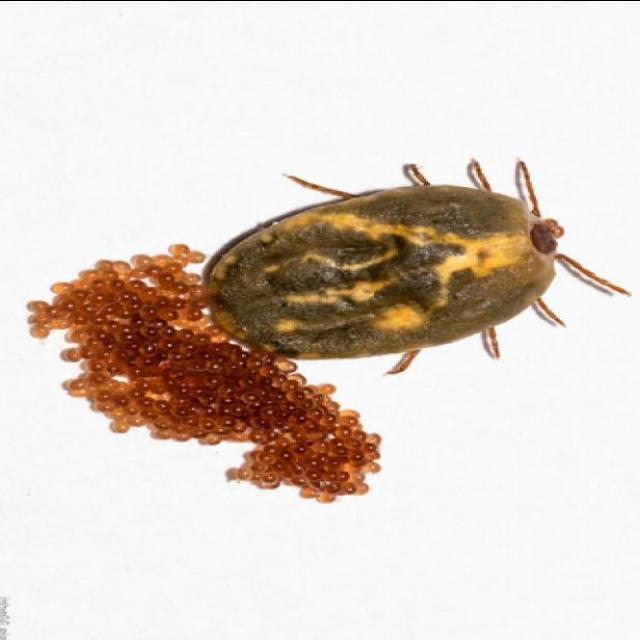Rhipicephalus Sanguineus-F-Fed: (200, 158, 624, 370)
